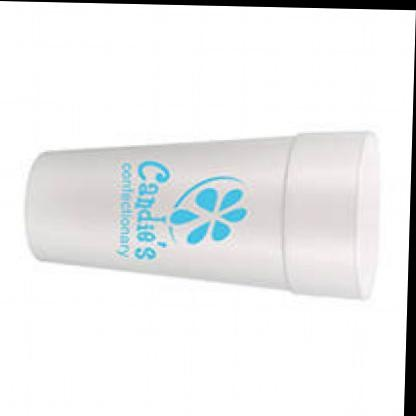trash: (26, 132, 378, 297)
